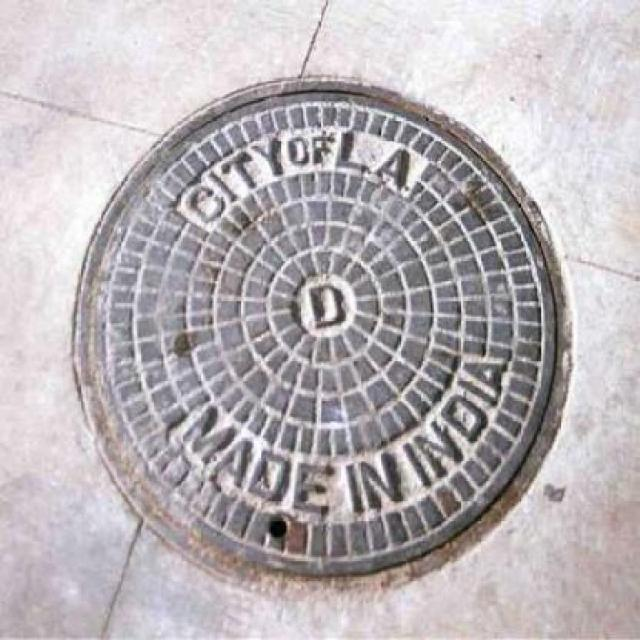Manhole: (59, 63, 584, 602)
